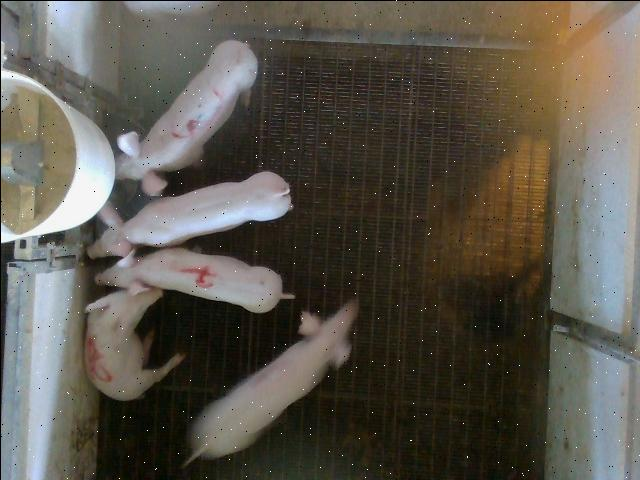pig-2: (189, 301, 356, 458)
pig-3: (115, 41, 256, 195)
pig-4: (95, 247, 294, 311)
pig-5: (85, 288, 184, 400)
